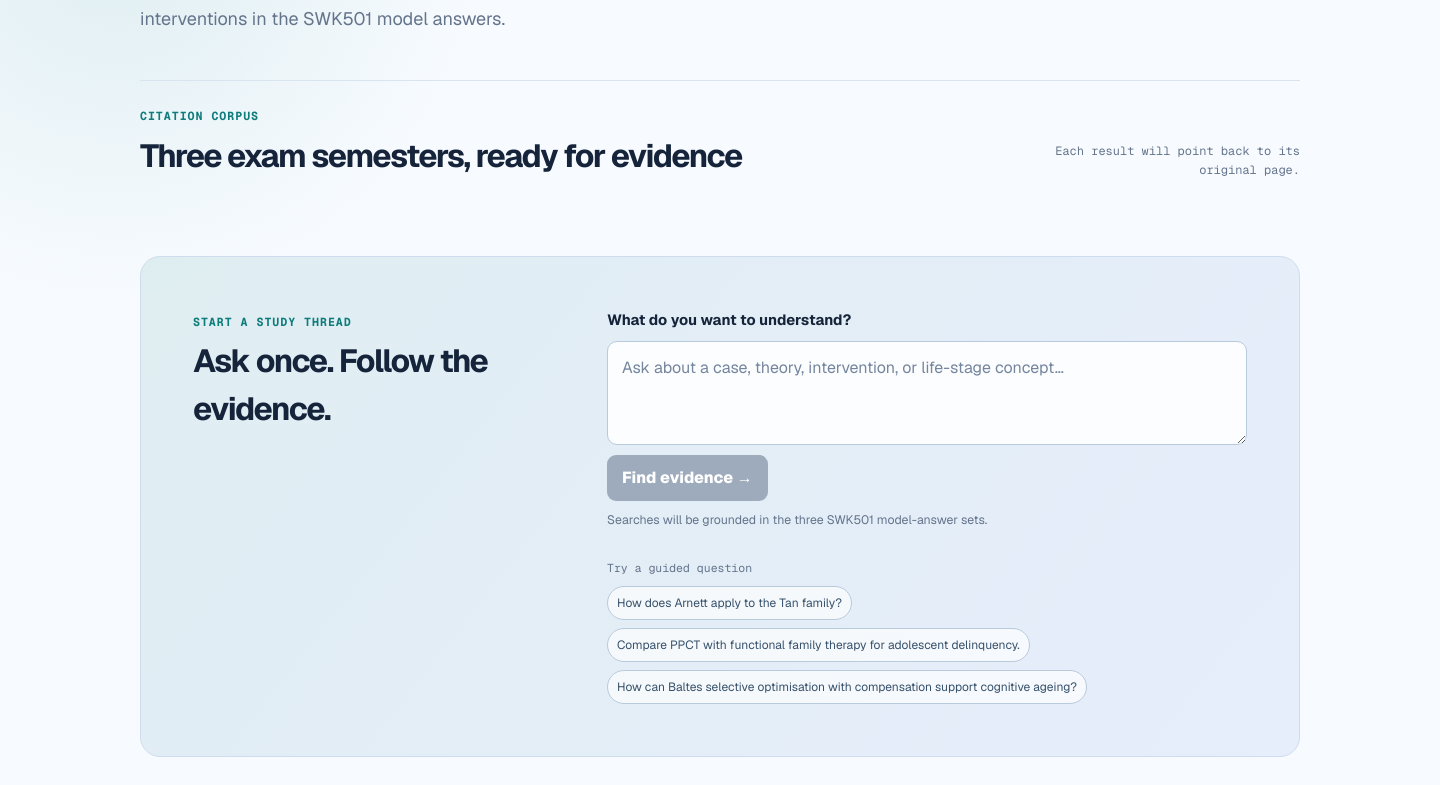
it: distinguishes an offline request failure and offers retry
The image size is (1440, 785).
(page scrolled)
Type "Explain Arnett" into the text box at x=927, y=393, box [607,341,1247,445]
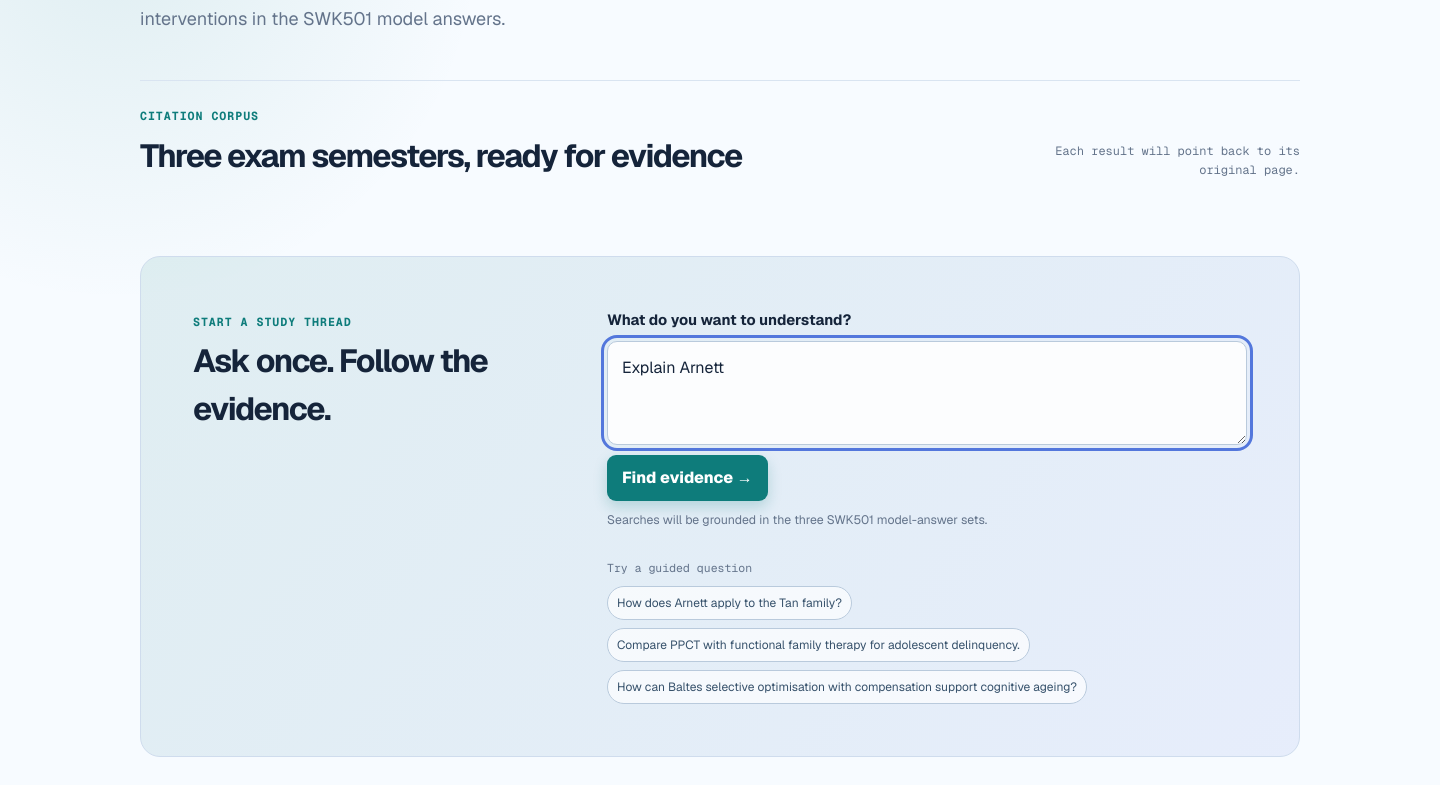
Click the button "Find evidence →" at x=687, y=478, box [607,455,768,501]
(page scrolled)
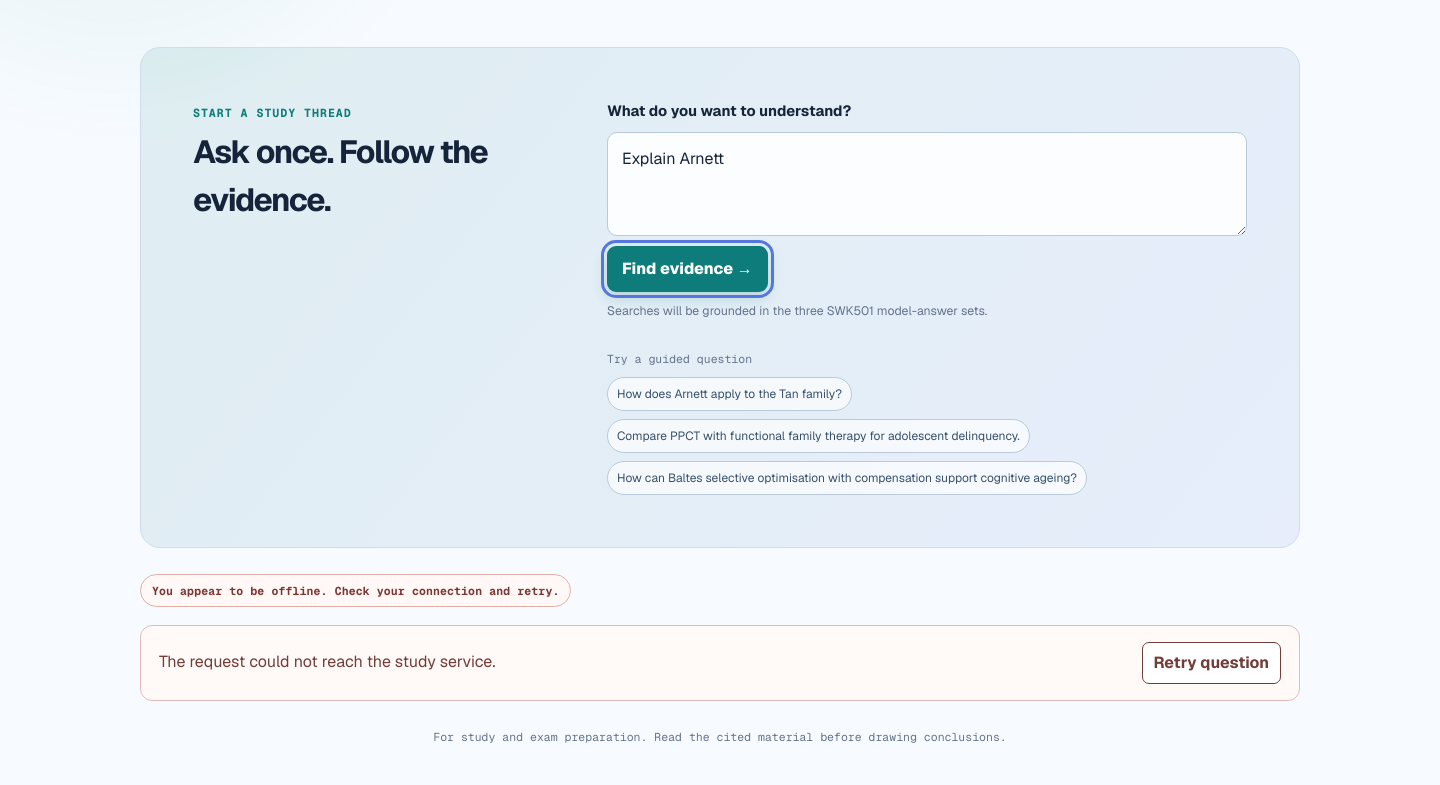
Expected: the text "You appear to be offline. Check your connection and retry." is shown, [140,574,571,607]
Expected: the button "Retry question" is shown, [1142,642,1281,684]
